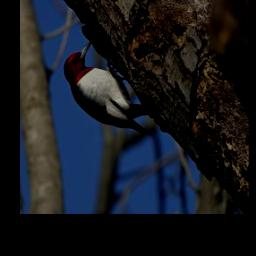Woodpecker: (58, 37, 158, 136)
